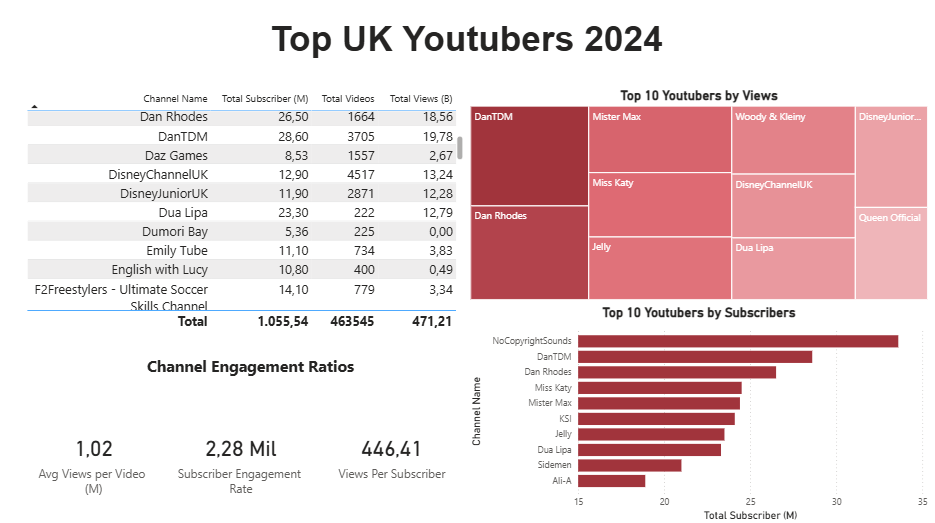

The page's visual inventory and layout, read from the dashboard file:
{"tool":"powerbi","page":{"name":"Página 1","canvas":[1280,720],"ordinal":0},"visuals":[{"type":"textbox","box":[337.3,30.2,607.2,97.6],"z":0},{"type":"tableEx","fields":{"Values":["view_uk_youtubers_2024.Nome_Canal","view_uk_youtubers_2024.Total Subscriber (M)","view_uk_youtubers_2024.Total Videos","view_uk_youtubers_2024.Total Views (B)"]},"box":[37.4,128.1,603.3,334],"z":1},{"type":"treemap","title":"Top 10 Youtubers by Views","fields":{"Group":["view_uk_youtubers_2024.Nome_Canal"],"Values":["view_uk_youtubers_2024.Total Views (B)"]},"box":[640.7,128.1,630.6,293.7],"z":2},{"type":"card","fields":{"Values":["view_uk_youtubers_2024.Avg Views per Video (M)"]},"box":[37.4,537.1,191.5,182.9],"z":3},{"type":"card","fields":{"Values":["view_uk_youtubers_2024.Subscriber Engagement Rate"]},"box":[228.9,537.1,208.8,182.9],"z":4},{"type":"card","fields":{"Values":["view_uk_youtubers_2024.Views Per Subscriber"]},"box":[437.7,537.1,203,182.9],"z":5},{"type":"clusteredBarChart","title":"Top 10 Youtubers by Subscribers","fields":{"Category":["view_uk_youtubers_2024.Nome_Canal"],"Y":["view_uk_youtubers_2024.Total Subscriber (M)"]},"box":[640.7,421.9,630.6,299.5],"z":6},{"type":"textbox","box":[155.5,486.7,384.4,50.4],"z":7}]}

Visuals, with their boxes in screenshot pixels (x1, y1, x2, y2), scaled from the page's 1280x720 canvas onto the 935x523 screenshot:
textbox: x1=246, y1=22, x2=690, y2=93
tableEx - view_uk_youtubers_2024.Nome_Canal x view_uk_youtubers_2024.Total Subscriber (M): x1=27, y1=93, x2=468, y2=336
"Top 10 Youtubers by Views" treemap: x1=468, y1=93, x2=929, y2=306
card - view_uk_youtubers_2024.Avg Views per Video (M): x1=27, y1=390, x2=167, y2=522
card - view_uk_youtubers_2024.Subscriber Engagement Rate: x1=167, y1=390, x2=320, y2=522
card - view_uk_youtubers_2024.Views Per Subscriber: x1=320, y1=390, x2=468, y2=522
"Top 10 Youtubers by Subscribers" clusteredBarChart: x1=468, y1=306, x2=929, y2=522
textbox: x1=114, y1=354, x2=394, y2=390
